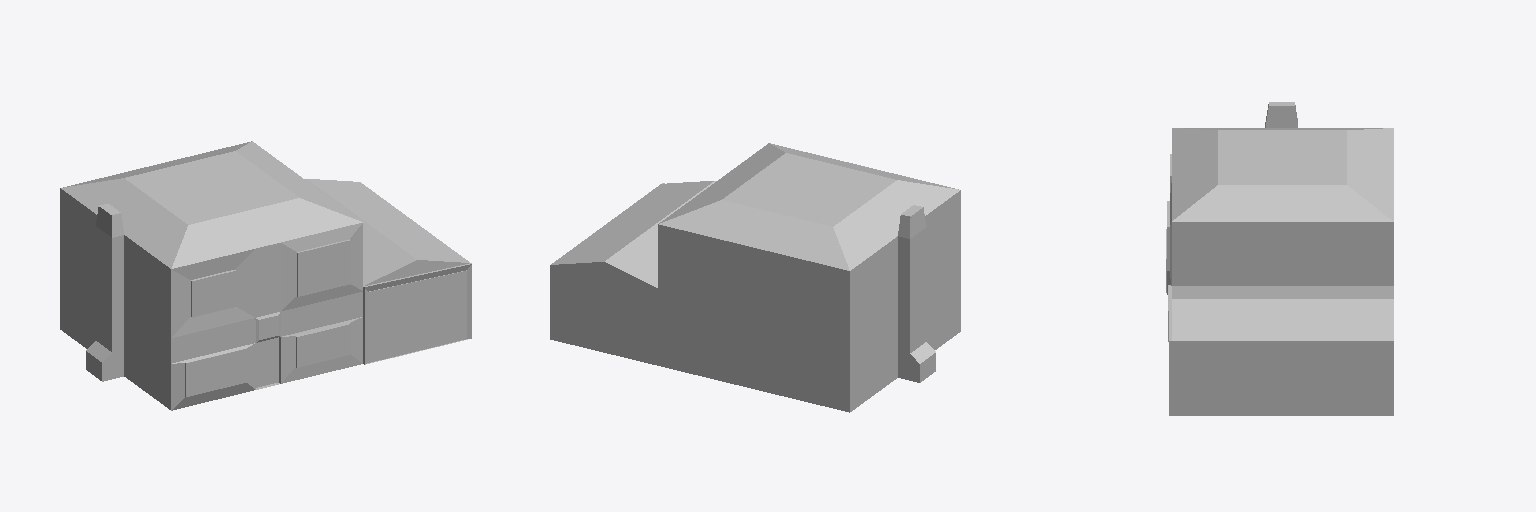
Rendered from house_obj.obj.
3 renders of one model, left to right at view 1: azimuth 30°, elevation 25°; view 2: azimuth 150°, elevation 25°; view 3: azimuth 270°, elevation 25°, orthographic.
Parts seen in each view (by area): view 1: Cube; view 2: Cube; view 3: Cube.
Part boxes in pixels (bbox=[...]): Cube: bbox=[60, 141, 471, 410]; Cube: bbox=[550, 143, 960, 412]; Cube: bbox=[1166, 102, 1393, 415].
Bounding box in the file's own units: 3.35 × 1.62 × 2.05.